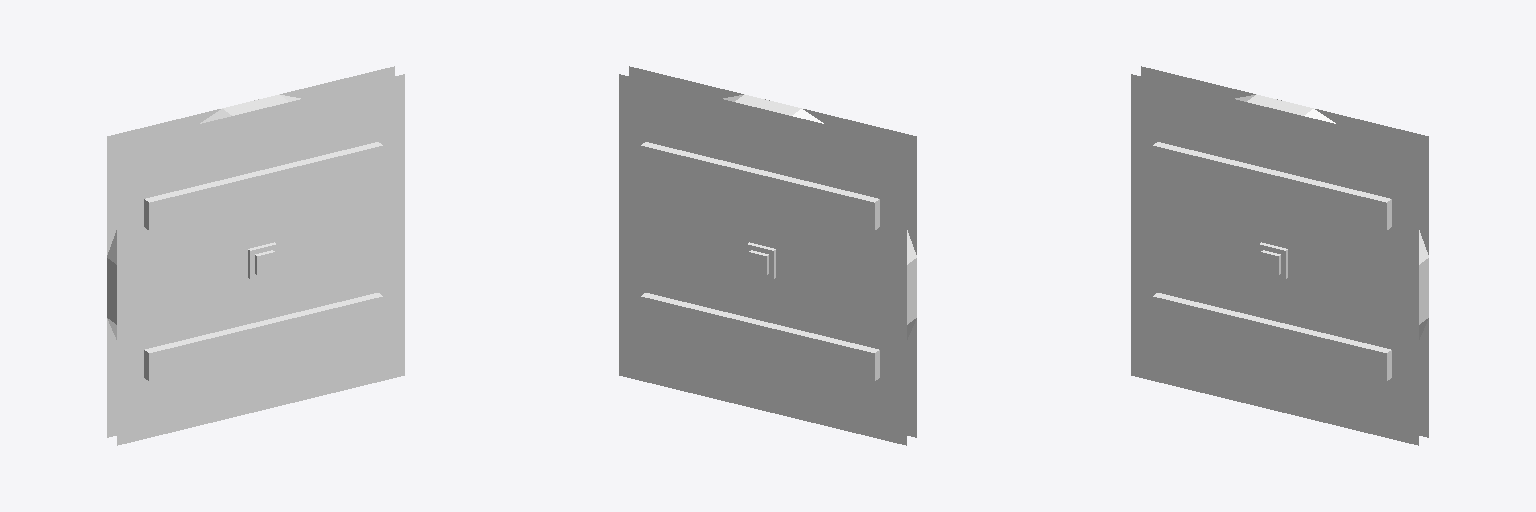
The model's file is wooden_wheel_2.obj.
3 views of the same model, side by side, from view 1: azimuth 30°, elevation 25°; view 2: azimuth 150°, elevation 25°; view 3: azimuth 330°, elevation 25° (orthographic).
Visible parts, largest first — view 1: medium_full_wheel, medium_full_wheel.012, medium_full_wheel.013, medium_full_wheel.006, medium_full_wheel.002; view 2: medium_full_wheel, medium_full_wheel.009, medium_full_wheel.008, medium_full_wheel.006, medium_full_wheel.002; view 3: medium_full_wheel, medium_full_wheel.012, medium_full_wheel.013, medium_full_wheel.006, medium_full_wheel.002.
Boxes of the visible parts, x1,y1,x2,y2 form: medium_full_wheel: [107, 66, 404, 445]; medium_full_wheel.012: [144, 293, 382, 381]; medium_full_wheel.013: [144, 142, 382, 230]; medium_full_wheel.006: [107, 258, 116, 324]; medium_full_wheel.002: [222, 94, 288, 115]; medium_full_wheel: [619, 66, 916, 445]; medium_full_wheel.009: [641, 293, 879, 381]; medium_full_wheel.008: [641, 142, 879, 230]; medium_full_wheel.006: [907, 258, 916, 324]; medium_full_wheel.002: [735, 94, 801, 115]; medium_full_wheel: [1131, 66, 1428, 445]; medium_full_wheel.012: [1153, 293, 1391, 381]; medium_full_wheel.013: [1153, 142, 1391, 230]; medium_full_wheel.006: [1419, 258, 1428, 324]; medium_full_wheel.002: [1247, 94, 1313, 115].
Bounding box in the file's own units: 2 × 2 × 0.25.